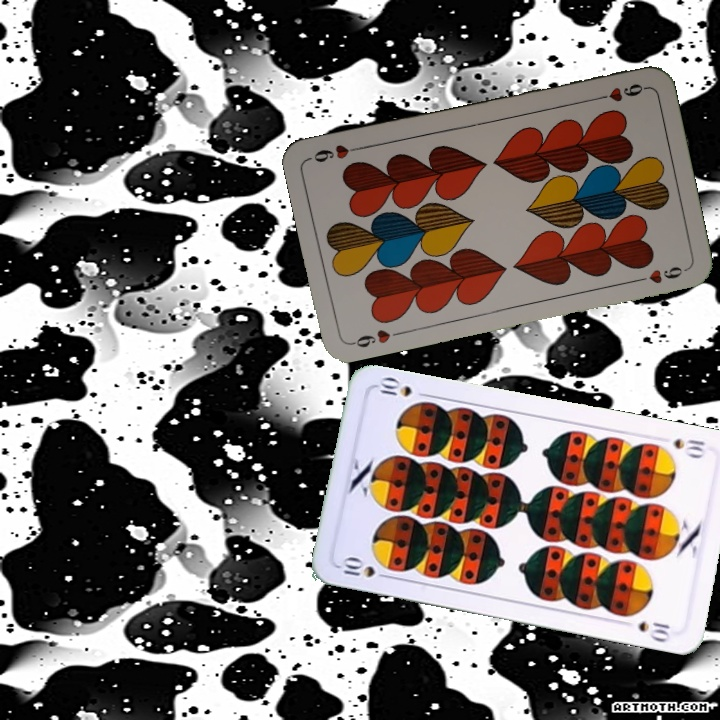H9: (590, 79, 649, 105), (346, 325, 393, 350)
S10: (338, 554, 394, 582), (670, 434, 708, 461)
